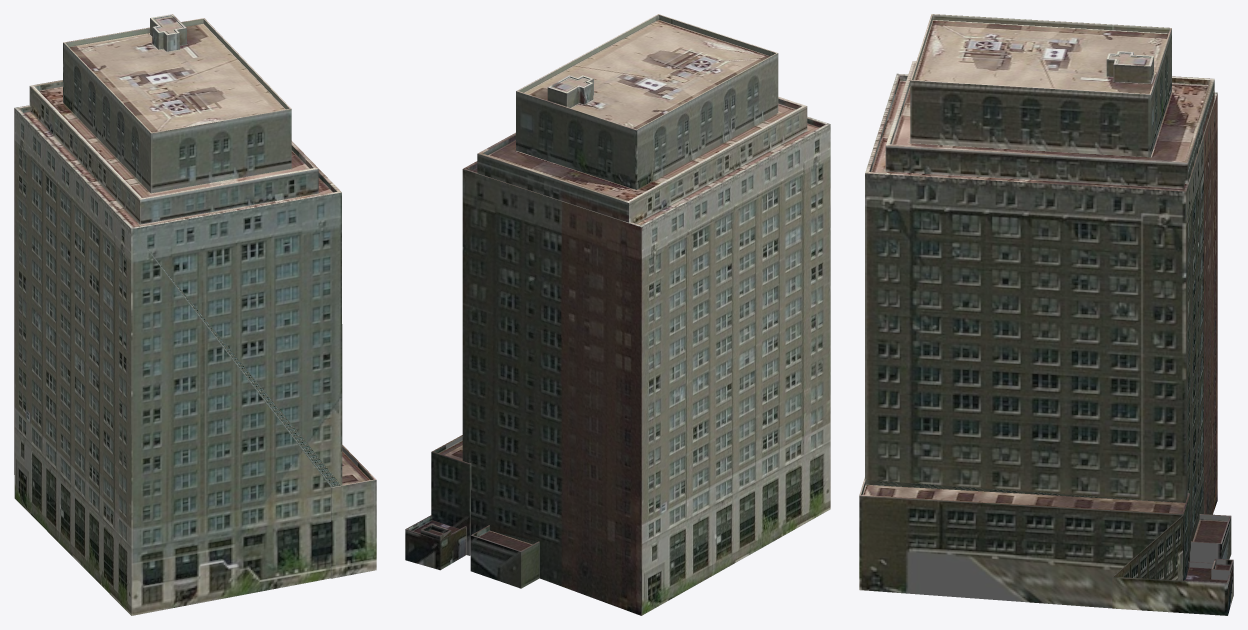
The model's file is Buildings_subset_22.dae.
3 renders of one model, left to right at view 1: azimuth 30°, elevation 25°; view 2: azimuth 150°, elevation 25°; view 3: azimuth 270°, elevation 25°, orthographic. The views are drawn at different scales.
Parts seen in each view (by area): view 1: Buildings_subset_22.dae (×9); view 2: Buildings_subset_22.dae (×14); view 3: Buildings_subset_22.dae (×12).
Part boxes in pixels (x1,y1,x2,y2): Buildings_subset_22.dae (×9): (14, 14, 376, 615); Buildings_subset_22.dae (×14): (405, 14, 830, 615); Buildings_subset_22.dae (×12): (859, 14, 1233, 615).
Size of the model in its own units: 140 by 162 by 237.
1 material, 1 textured.
